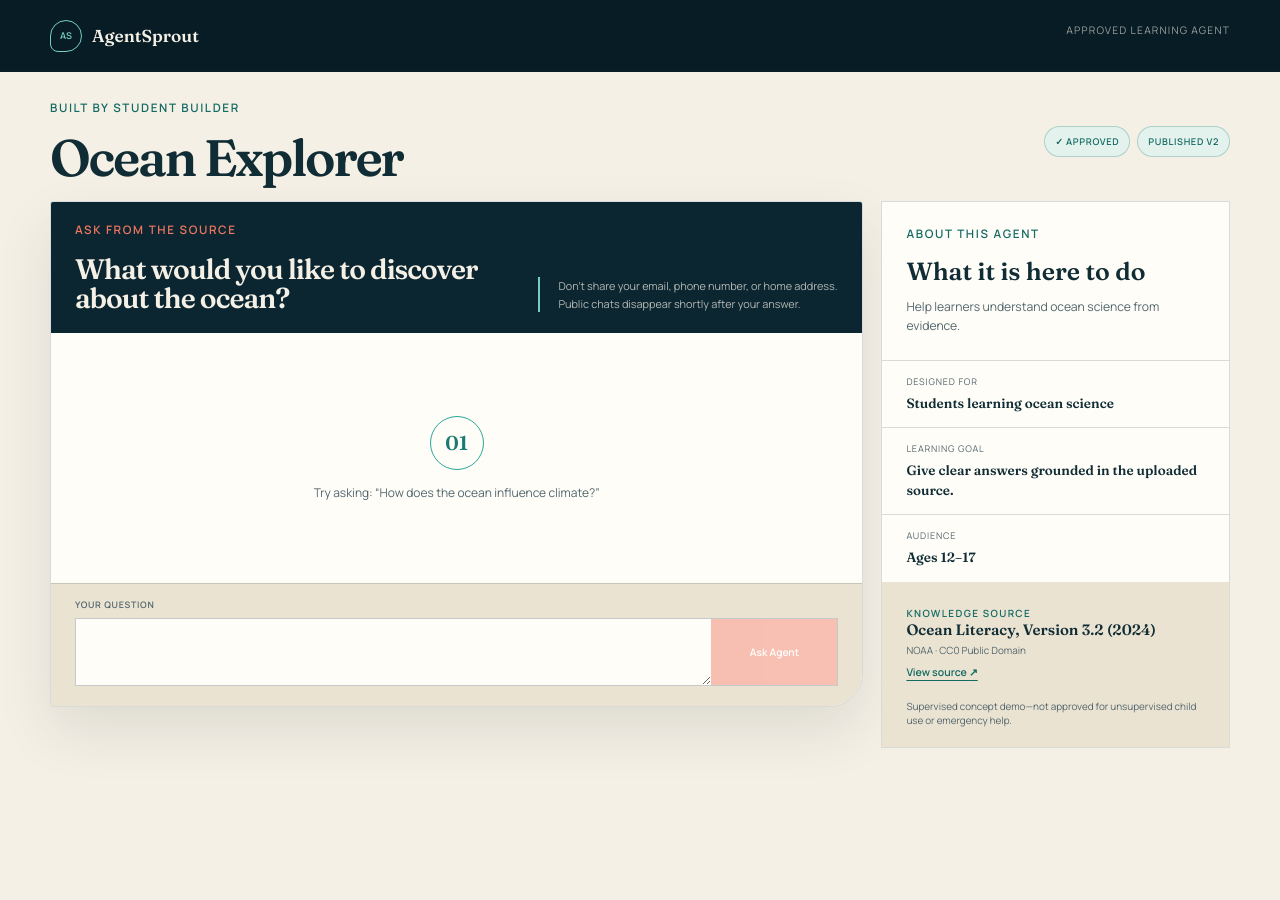
Test case: PublishedAgent › shows retry timing when the public limiter rejects a request
Expected: the heading "Ocean Explorer" is shown, [50,132,402,183]
Type "What is ocean literacy?" into the text box labelled "Your question". click: (394, 652)
box: [76,619,711,685]
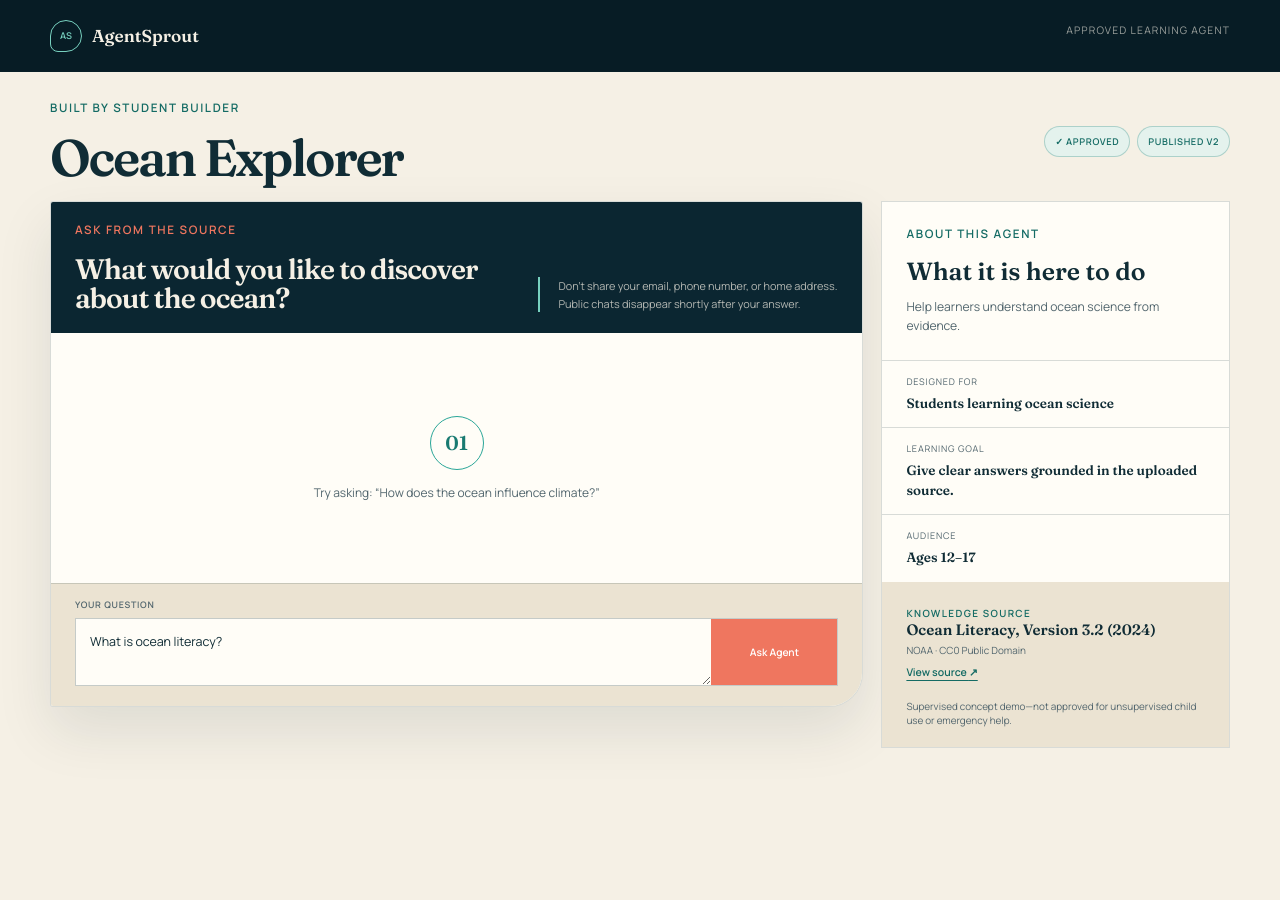
Click the button "Ask Agent". click: (774, 652)
box: [711,619,837,685]
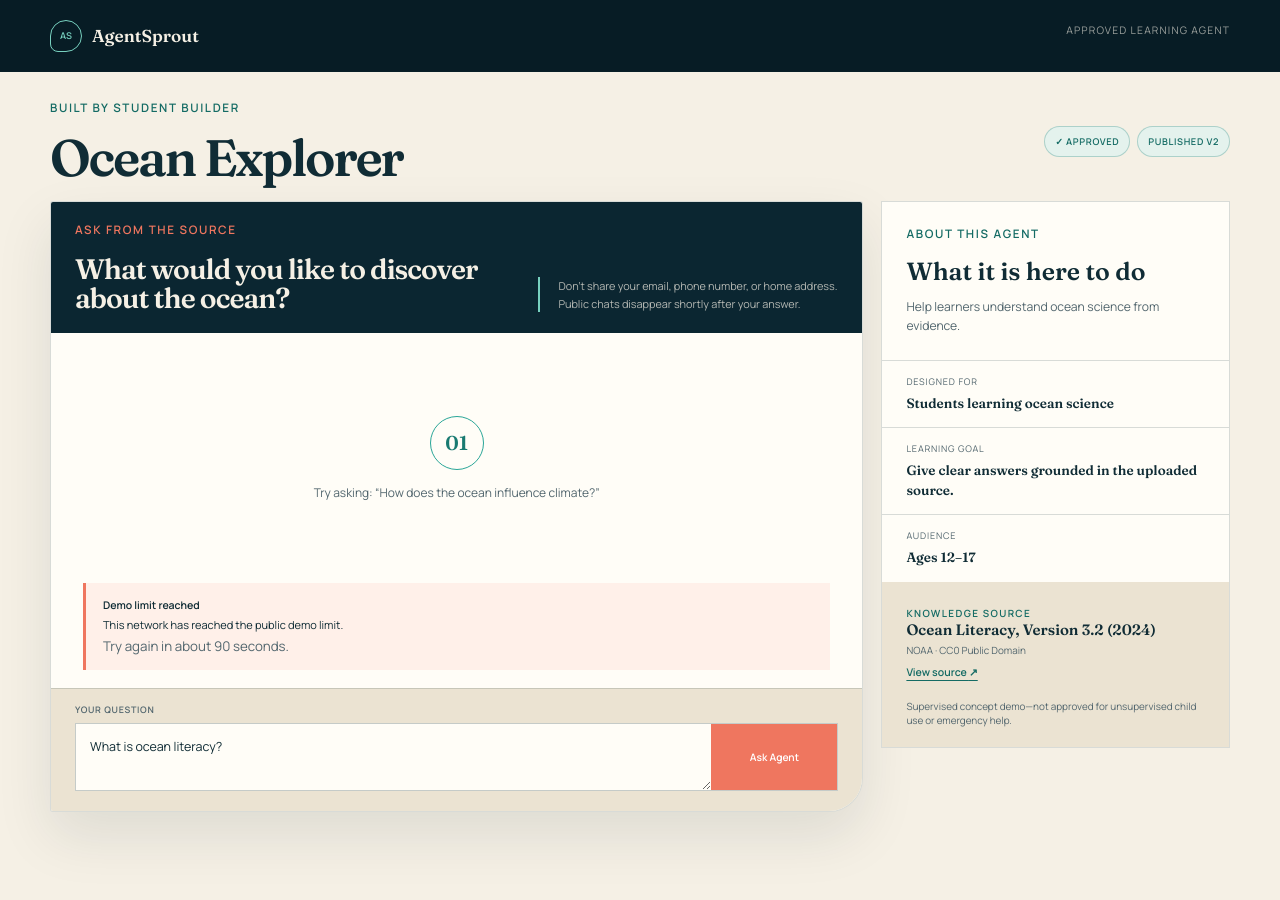
Expected: the button "Ask Agent" is enabled, [711,724,837,790]
Expected: the message shows "Try again in about 90 seconds", [83,583,830,670]
